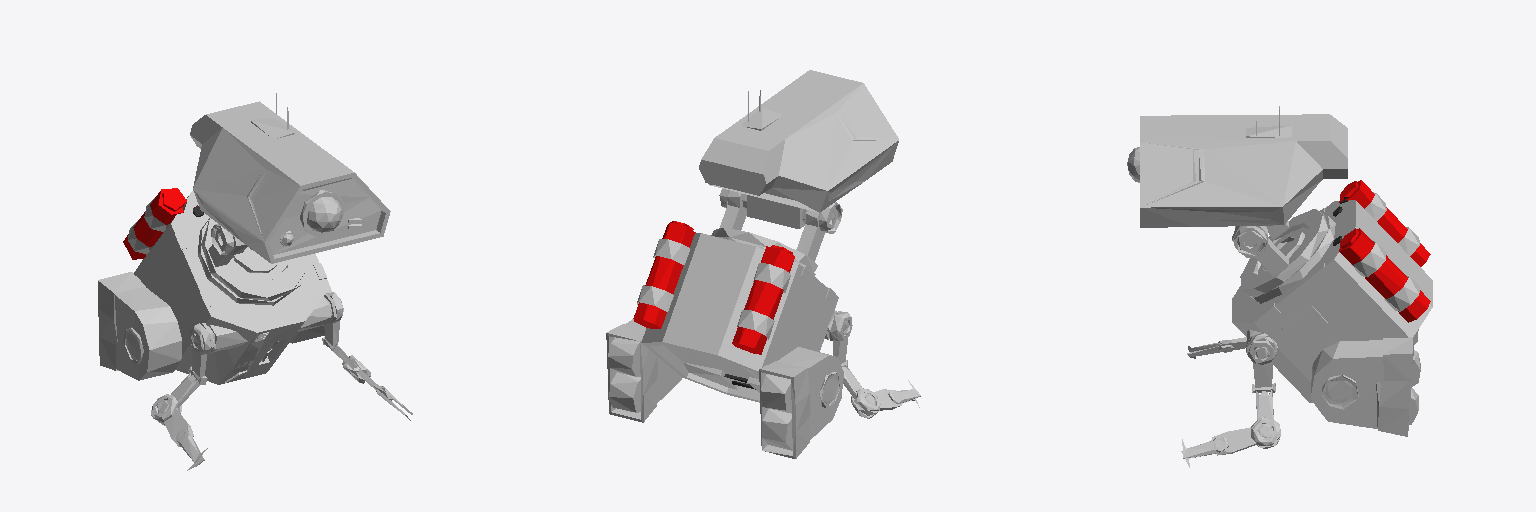
3 views of the same model, side by side, from view 1: azimuth 30°, elevation 25°; view 2: azimuth 150°, elevation 25°; view 3: azimuth 270°, elevation 25° (orthographic).
Visible parts, largest first — view 1: Cylinder.004; view 2: Cylinder.004; view 3: Cylinder.004.
Boxes of the visible parts, <box> form: Cylinder.004: <box>98,93,412,470</box>; Cylinder.004: <box>606,70,920,458</box>; Cylinder.004: <box>1127,106,1432,467</box>.
Size of the model in its own units: 0.7877 by 1.09 by 0.9422.
Materials: 2 (1 with a texture image).